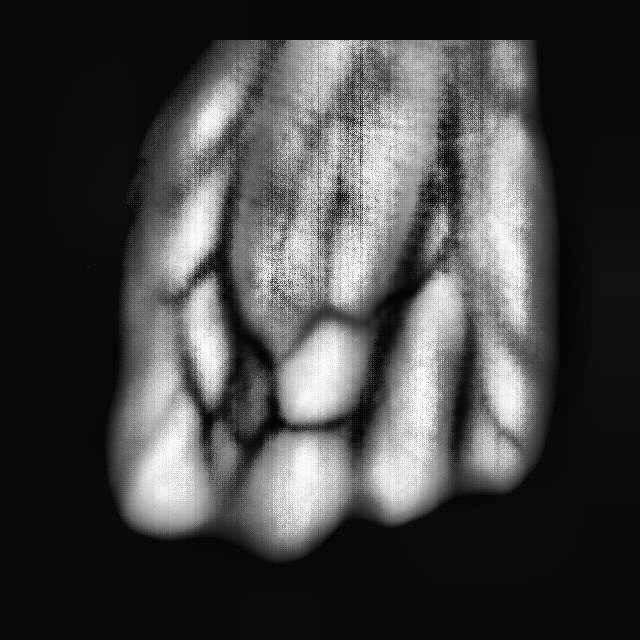Vein: (374, 136, 455, 337)
